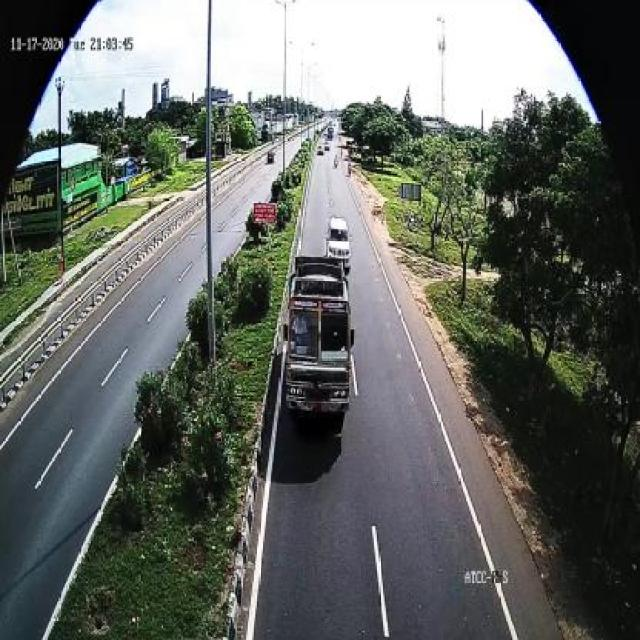car: (324, 214, 356, 269)
